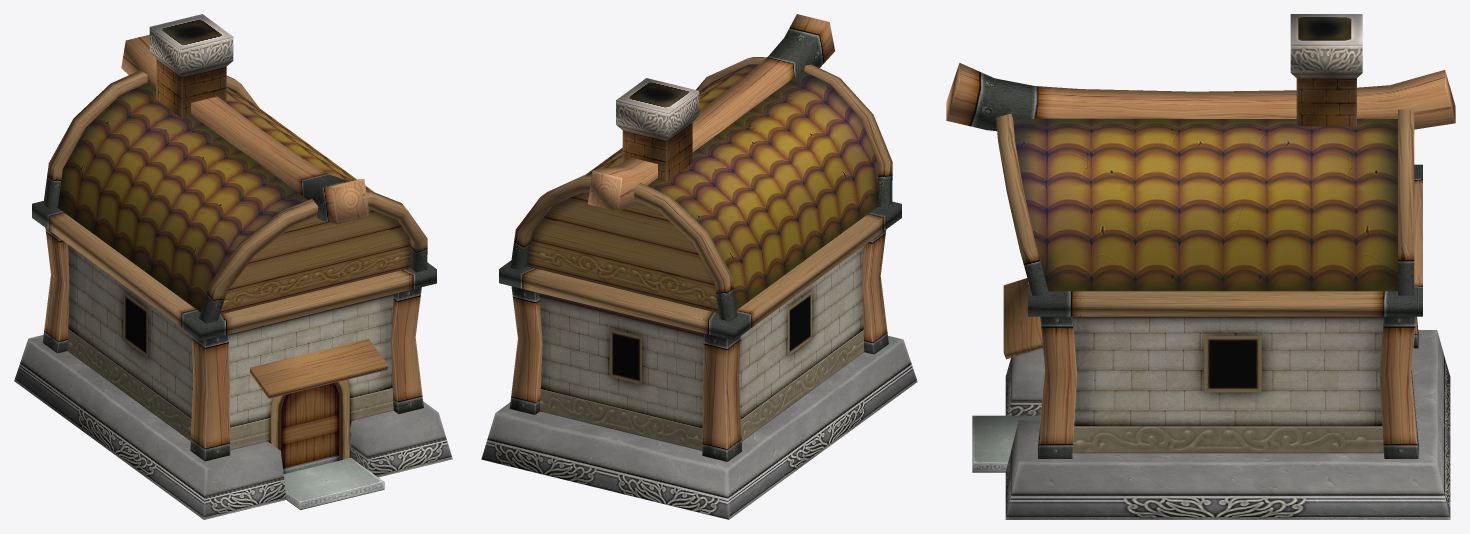
Rendered from SD_house_001.fbx.
3 renders of one model, left to right at view 1: azimuth 30°, elevation 25°; view 2: azimuth 150°, elevation 25°; view 3: azimuth 270°, elevation 25°, orthographic. The views are drawn at different scales.
Parts seen in each view (by area): view 1: polySurface136; view 2: polySurface136; view 3: polySurface136.
Part boxes in pixels (x1,y1,x2,y2): polySurface136: (14, 14, 452, 519); polySurface136: (481, 14, 917, 519); polySurface136: (946, 14, 1455, 519).
Size of the model in its own units: 10.69 by 14.67 by 16.14.
